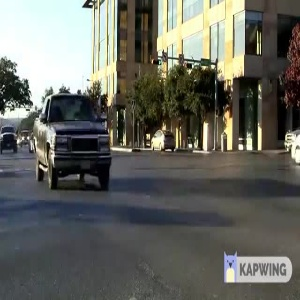car: (147, 126, 181, 155)
truck: (32, 82, 115, 195), (1, 125, 21, 155)
